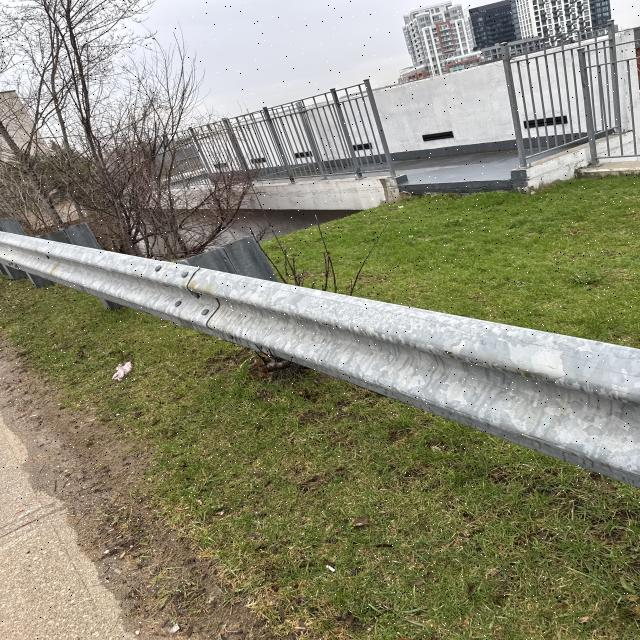Guard rail: (10, 243, 618, 471)
